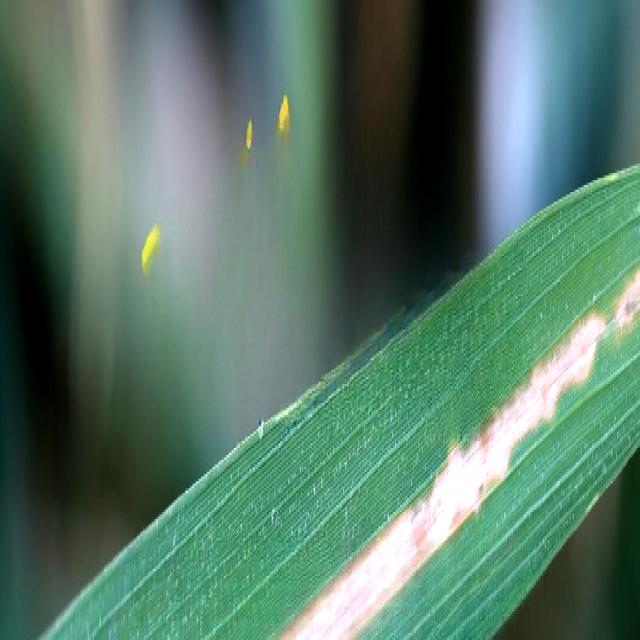BLB: (274, 268, 639, 640)
